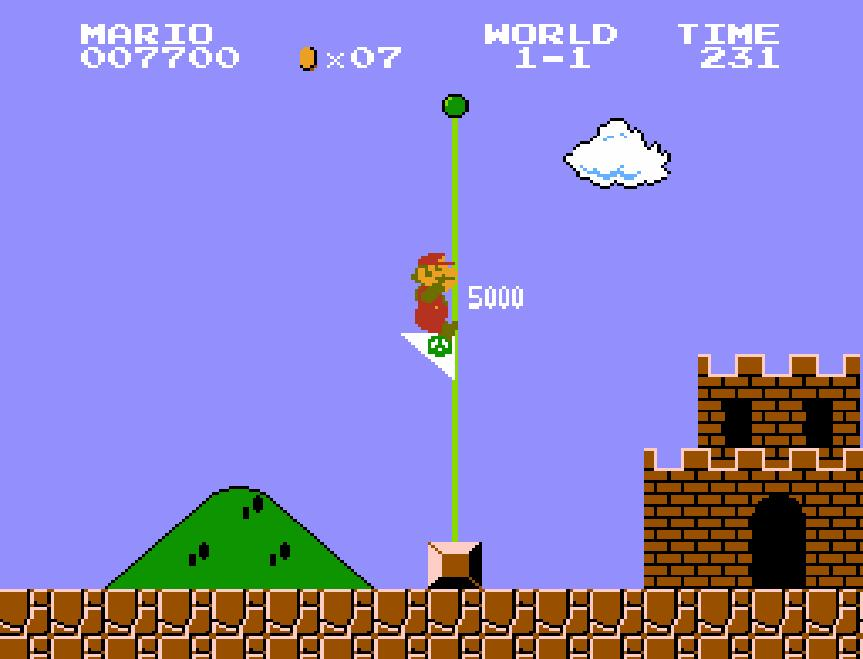big_mario: (402, 245, 461, 343)
